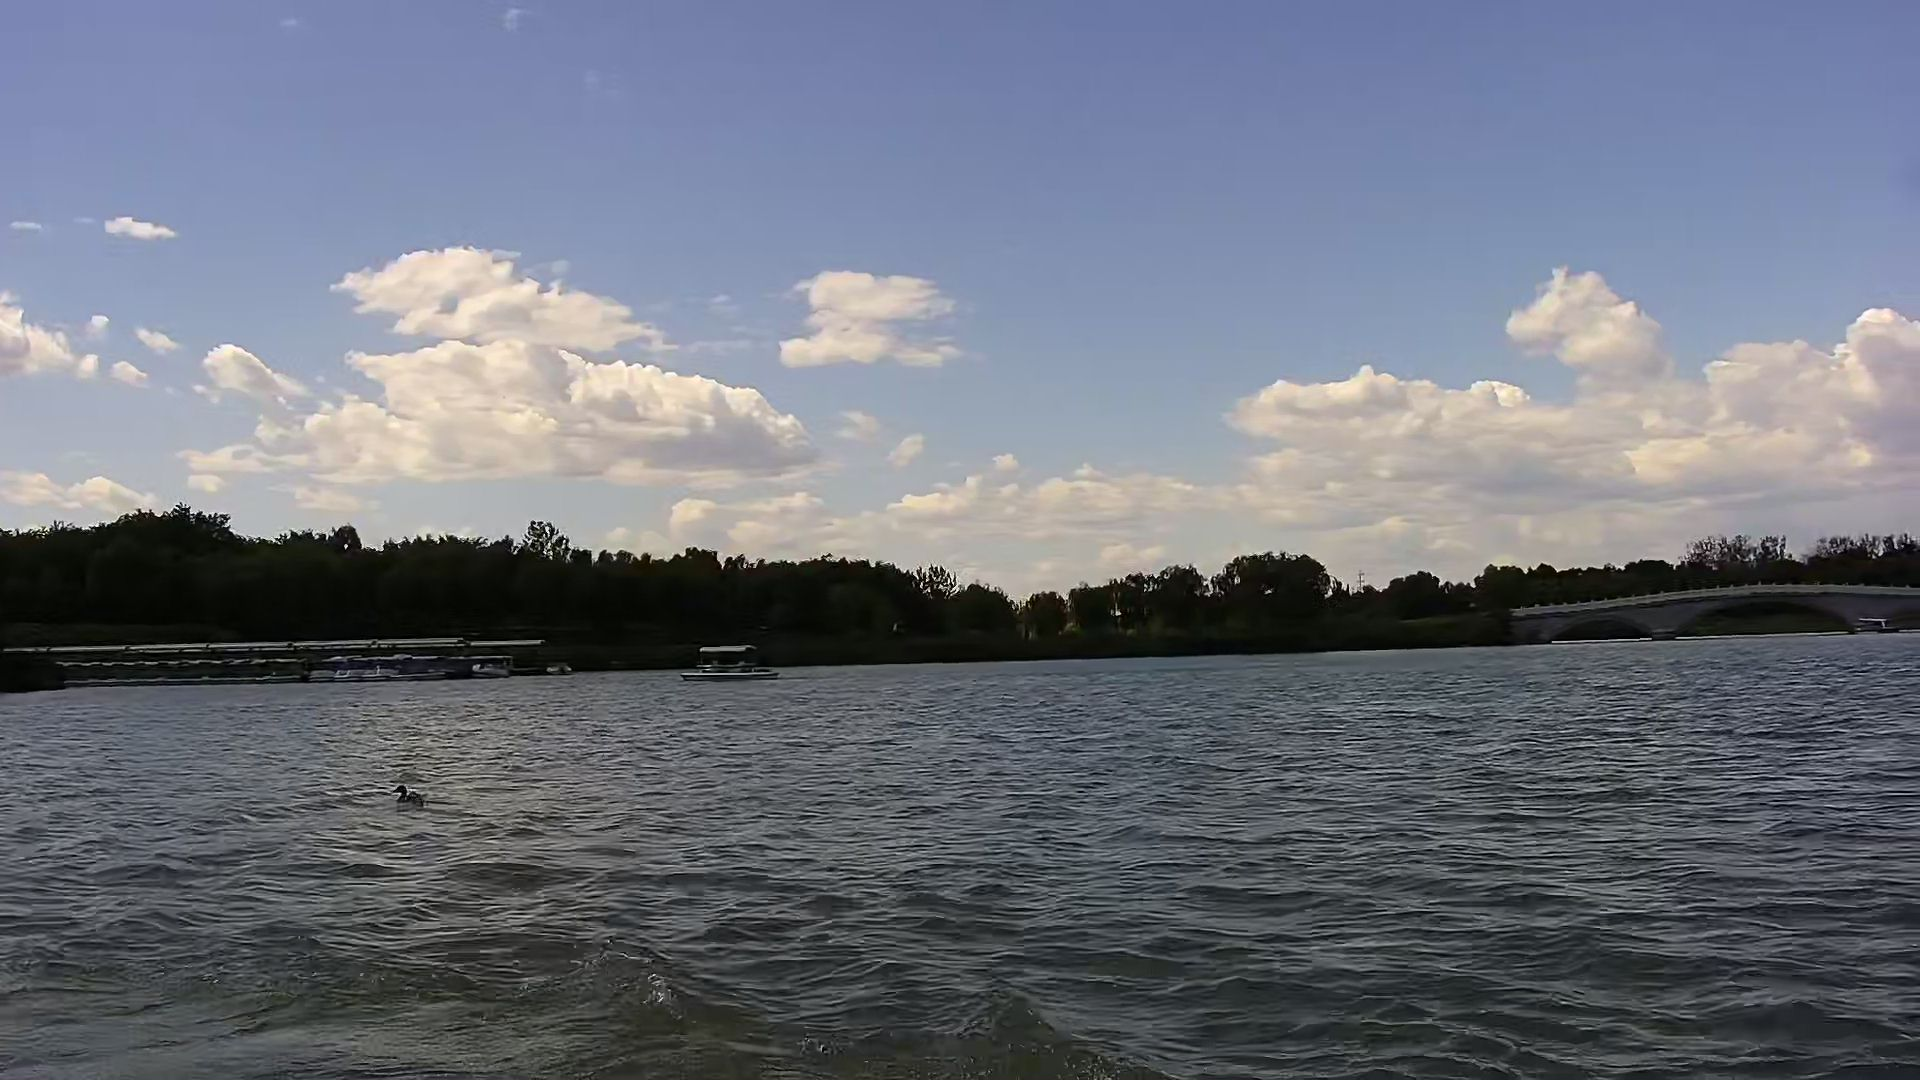animal: (386, 777, 429, 814)
boat: (680, 647, 782, 684)
bridge: (1509, 587, 1920, 644)
harbor: (25, 634, 603, 682)
